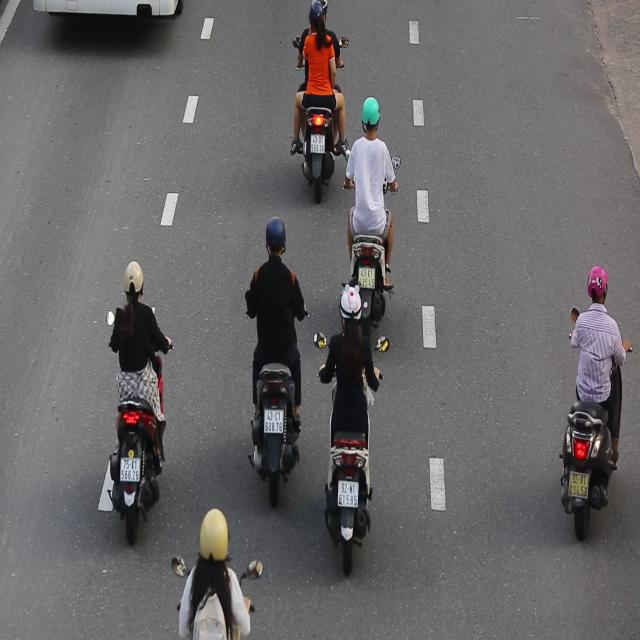motorbike: (88, 233, 172, 550), (310, 281, 391, 576), (558, 259, 639, 553), (241, 199, 307, 512), (289, 1, 352, 212)
